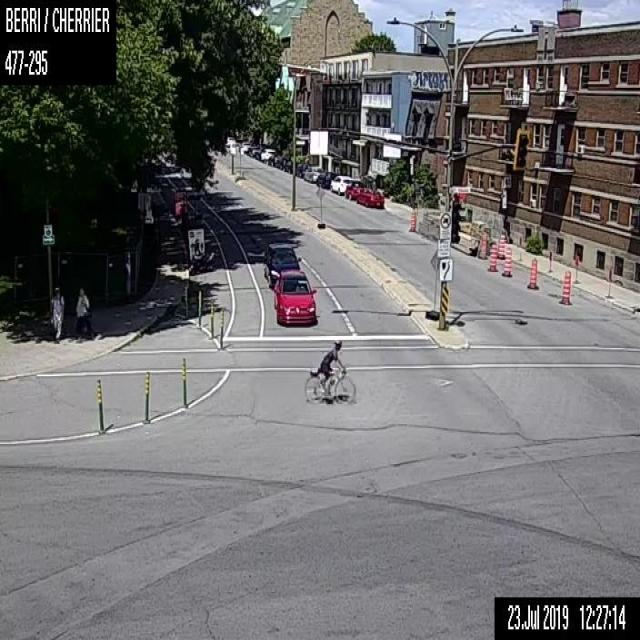construction: (426, 248, 439, 319), (314, 185, 324, 227), (96, 378, 102, 430), (561, 270, 570, 302), (604, 267, 613, 297), (144, 369, 149, 419), (219, 307, 225, 348), (529, 258, 537, 286), (503, 247, 511, 275), (209, 297, 214, 336), (572, 255, 579, 282), (497, 233, 505, 256), (489, 244, 496, 270), (479, 233, 486, 257), (197, 288, 201, 325), (182, 356, 185, 404), (184, 285, 188, 319), (546, 250, 552, 271), (409, 211, 415, 229)
cyclist: (302, 339, 354, 404)
pedestrian: (75, 288, 90, 340), (50, 287, 64, 341)
vehicle: (273, 270, 316, 325), (262, 242, 300, 288), (356, 187, 383, 206), (344, 180, 365, 200), (330, 175, 351, 193), (316, 171, 336, 188), (303, 166, 322, 181), (260, 148, 275, 162), (296, 162, 308, 177), (274, 156, 287, 169), (282, 160, 292, 172)
